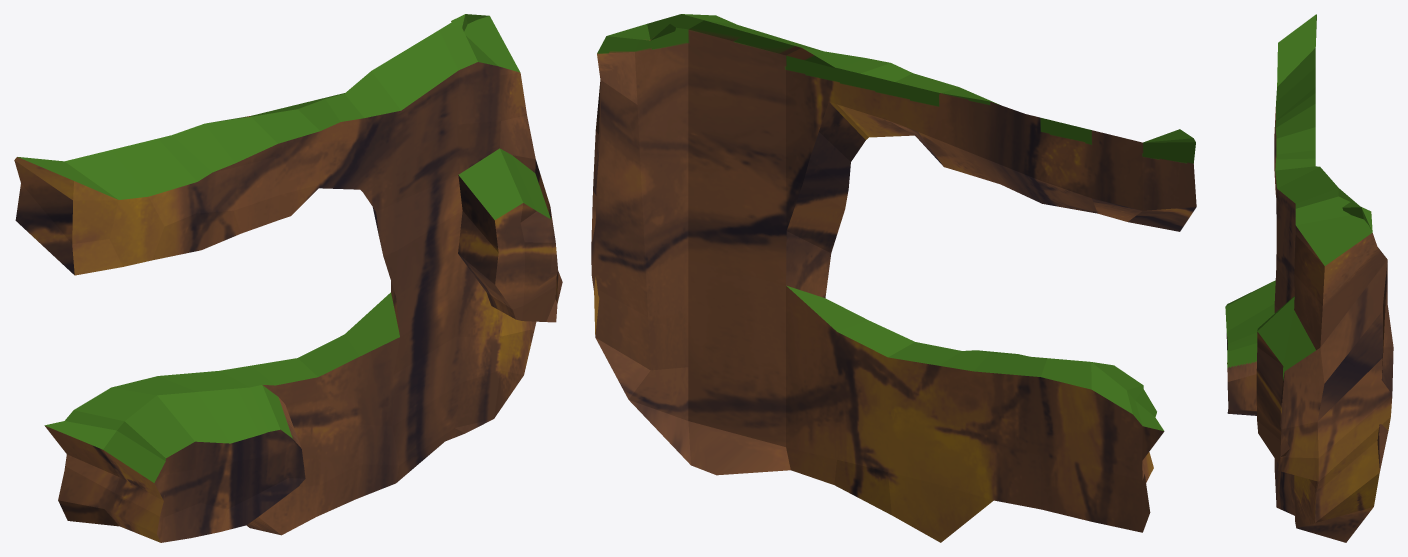
Rendered from sali51.obj.
The picture shows the model from 3 angles, left to right: view 1: azimuth 30°, elevation 25°; view 2: azimuth 150°, elevation 25°; view 3: azimuth 270°, elevation 25°; orthographic projection. The views are drawn at different scales.
Visible parts, largest first — view 1: Plane.021_Plane.015; view 2: Plane.021_Plane.015; view 3: Plane.021_Plane.015.
Boxes of the visible parts, x1,y1,x2,y2 form: Plane.021_Plane.015: [14, 14, 562, 542]; Plane.021_Plane.015: [591, 14, 1196, 542]; Plane.021_Plane.015: [1225, 14, 1393, 542].
Bounding box in the file's own units: 246 × 194 × 77.65.
1 material, 1 textured.
